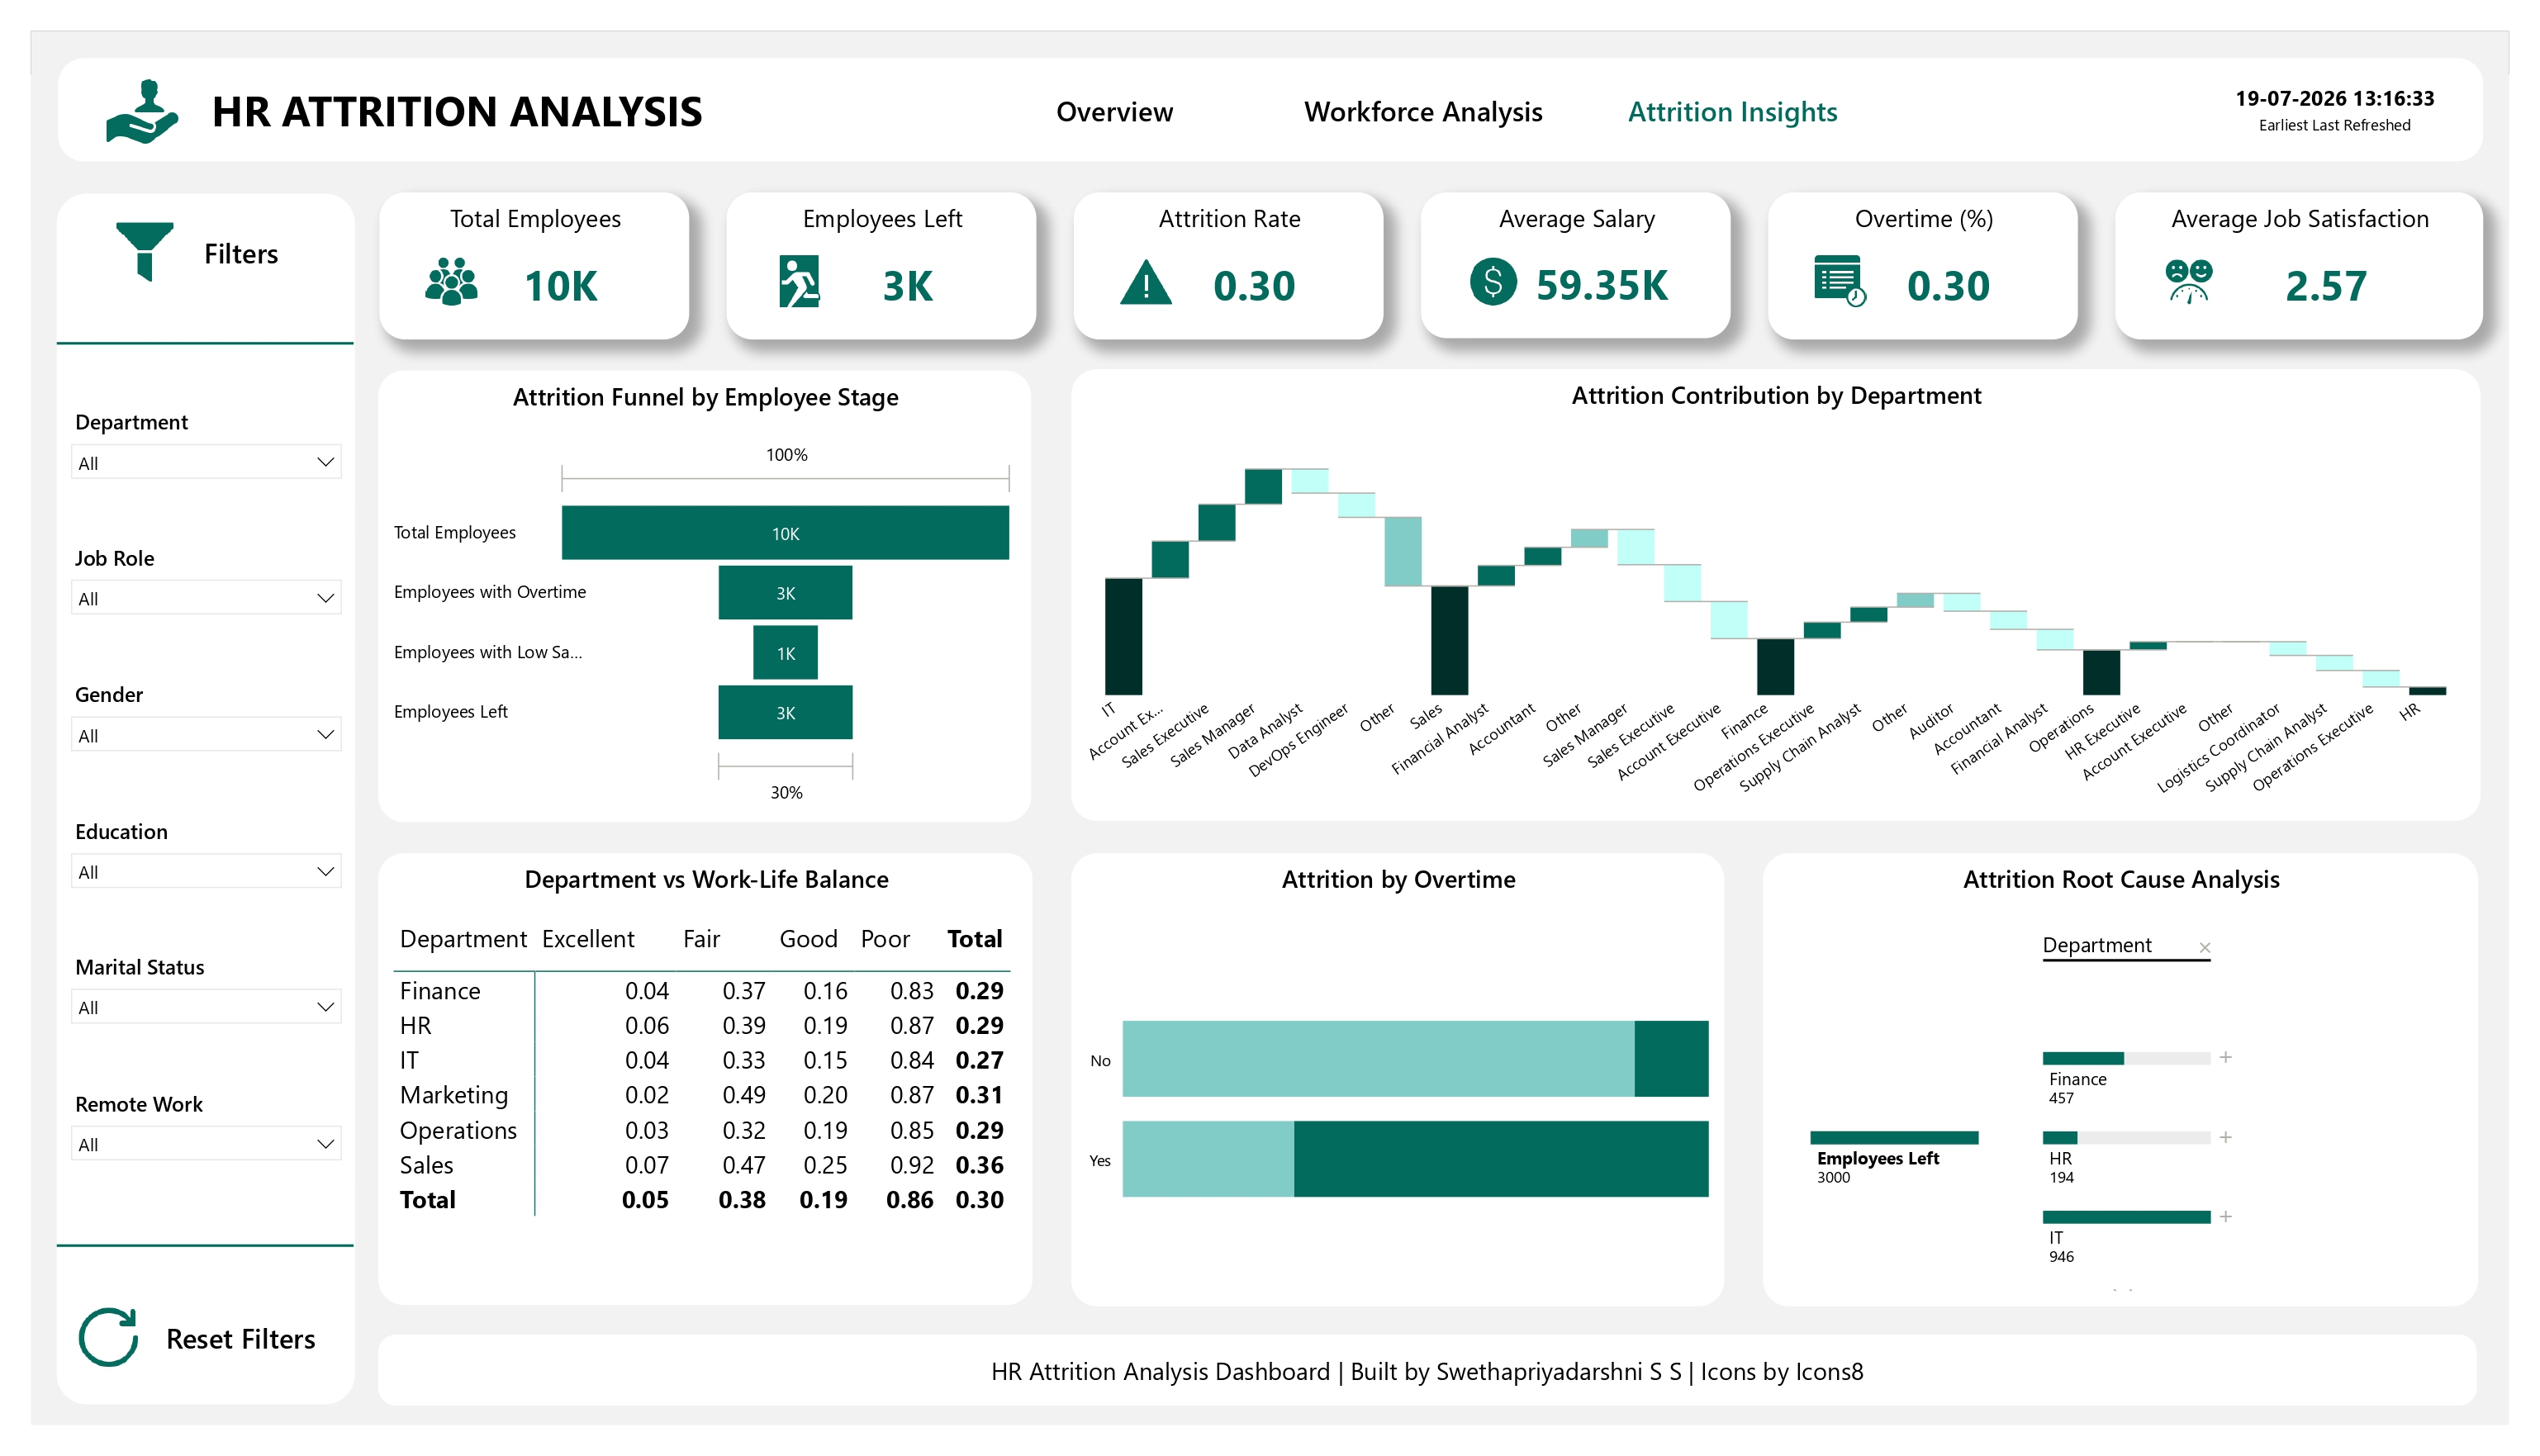

Layout of this report page (visuals, bound fields, positions):
{"tool":"powerbi","page":{"name":"Attrition Insights","canvas":[1920,1080],"ordinal":2},"visuals":[{"type":"group","id":"g1","title":"Header","box":[20.7,20.7,1879.3,80.1],"z":0},{"type":"shape","title":"Title Shape","box":[20.7,20.8,1879.3,80],"z":0,"group":"g1"},{"type":"cardVisual","title":"Total Employees","fields":{"Data":["Sheet1.Total Employees"]},"box":[269.8,125,240,113.5],"z":0,"group":"g5"},{"type":"shape","title":"Filter Shape","box":[20,126,231.5,938],"z":0,"group":"g3"},{"type":"image","title":"Filter Icon","box":[63.4,146,50.3,50],"z":0,"group":"g2"},{"type":"slicer","title":"Department Slicer","fields":{"Values":["Sheet1.Department"]},"box":[20.9,287.2,230,80],"z":0,"group":"g4"},{"type":"image","title":"Reset Icon","box":[35.4,987.1,50.3,50],"z":0,"group":"g6"},{"type":"image","title":"Title Icon","box":[45.6,31.8,80,60],"z":1000,"group":"g1"},{"type":"cardVisual","title":"Employees Left","fields":{"Data":["Sheet1.Employees Left"]},"box":[538.8,125,240,113.5],"z":1000,"group":"g5"},{"type":"group","id":"g2","title":"Filters","box":[63.4,146,145.1,50.2],"z":1000,"group":"g3"},{"type":"actionButton","title":"Filters Button","box":[118,146.2,90.5,50],"z":1000,"group":"g2"},{"type":"slicer","title":"Job Role Slicer","fields":{"Values":["Sheet1.Job_Role"]},"box":[21,392.7,230,80],"z":1000,"group":"g4"},{"type":"actionButton","title":"Reset Button","box":[89.7,987.1,146.8,50],"z":1000,"group":"g6"},{"type":"textbox","title":"Title","box":[135,33.9,410.7,60],"z":2000,"group":"g1"},{"type":"cardVisual","title":"Attrition Rate","fields":{"Data":["Sheet1.Attrition Rate"]},"box":[807.8,125,240,113.5],"z":2000,"group":"g5"},{"type":"group","id":"g3","title":"Left Panel","box":[20,126,231.5,938],"z":2000},{"type":"shape","title":"Filter Line","box":[20.1,221.7,230,40],"z":2000,"group":"g3"},{"type":"slicer","title":"Gender Slicer","fields":{"Values":["Sheet1.Gender"]},"box":[21,498.4,230,80],"z":2000,"group":"g4"},{"type":"actionButton","title":"Overview Button","box":[719.6,20.7,240,80],"z":3000,"group":"g1"},{"type":"cardVisual","title":"Average Salary","fields":{"Data":["Sheet1.Average Salary"]},"box":[1076.8,125.2,240,113.1],"z":3000,"group":"g5"},{"type":"group","id":"g4","title":"Slicers","box":[20.9,287.2,230.1,607.7],"z":3000,"group":"g3"},{"type":"slicer","title":"Education Slicer","fields":{"Values":["Sheet1.Education_Level"]},"box":[21,603.9,230,80],"z":3000,"group":"g4"},{"type":"actionButton","title":"Workforce Analysis Button","box":[959,20.7,240,80],"z":4000,"group":"g1"},{"type":"group","id":"g5","title":"Cards","box":[269.8,125,1629.9,113.6],"z":4000},{"type":"cardVisual","title":"Overtime (%)","fields":{"Data":["Sheet1.Overtime %"]},"box":[1345.7,125,240,113.6],"z":4000,"group":"g5"},{"type":"slicer","title":"Marital Status Slicer","fields":{"Values":["Sheet1.Marital_Status"]},"box":[21,709.4,230,80],"z":4000,"group":"g4"},{"type":"shape","title":"Reset Line","box":[20.1,920.6,230,40.9],"z":4000,"group":"g3"},{"type":"funnel","title":"Attrition Funnel by Employee Stage","fields":{"Y":["Sheet1.Total Employees","Sheet1.Employees with Overtime","Sheet1.Employees with Low Satisfaction","Sheet1.Employees Left"]},"box":[269,262.5,505.8,350.4],"z":4250,"group":"g7"},{"type":"waterfallChart","title":"Attrition Contribution by Department","fields":{"Y":["Sheet1.Employees Left"],"Category":["Sheet1.Department"],"Breakdown":["Sheet1.Job_Role"]},"box":[805.8,261.9,1092.5,350.4],"z":4500,"group":"g7"},{"type":"actionButton","title":"Attrition Insights Button","box":[1198.3,20.7,240,80],"z":5000,"group":"g1"},{"type":"cardVisual","title":"Average Job Satisfaction","fields":{"Data":["Sheet1.Average Job Satisfaction"]},"box":[1614.7,125,285,113.6],"z":5000,"group":"g5"},{"type":"pivotTable","title":"Department vs Work-Life Balance","fields":{"Rows":["Sheet1.Department"],"Columns":["Sheet1.Work_Life_Balance"],"Values":["Sheet1.Attrition Rate"]},"box":[269,636.9,507.2,350.4],"z":5000,"group":"g7"},{"type":"slicer","title":"Remote Work Slicer","fields":{"Values":["Sheet1.Remote_Work"]},"box":[21,814.9,230,80],"z":5000,"group":"g4"},{"type":"group","id":"g6","title":"Reset","box":[35.4,987.1,201.1,50],"z":5000,"group":"g3"},{"type":"cardVisual","title":"Last Refreshed","fields":{"Data":["Min(Last Refreshed.Last Refreshed)"]},"box":[1674.5,24.5,221.4,70],"z":6000,"group":"g1"},{"type":"group","id":"g7","title":"Charts","box":[269,261.9,1629.3,725.9],"z":6000},{"type":"hundredPercentStackedBarChart","title":"Attrition by Overtime","fields":{"Category":["Sheet1.Overtime"],"Series":["Sheet1.Attrition"],"Y":["CountNonNull(Sheet1.Employee_ID)"]},"box":[805.8,637.3,506.3,350.4],"z":6000,"group":"g7"},{"type":"decompositionTreeVisual","title":"Attrition Root Cause Analysis","fields":{"Analyze":["Sheet1.Employees Left"],"ExplainBy":["Sheet1.Department","Sheet1.Overtime","Sheet1.Work_Life_Balance","Sheet1.Job_Satisfaction","Sheet1.Gender","Sheet1.Education_Level","Sheet1.Remote_Work","Sheet1.Marital_Status","Sheet1.Age Group","Sheet1.Promotion_Last_3_Years","Sheet1.Years_at_Company","Sheet1.Job_Role"]},"box":[1342.1,637.3,553.7,350.4],"z":7000,"group":"g7"},{"type":"shape","title":"Footer","box":[269,1010.3,1625.9,55],"z":8000}]}

Visuals, with their boxes on the page's 1920x1080 design canvas (x1, y1, x2, y2). These are canvas units, not pixel positions in the 2540x1456 screenshot, which may show the page scaled, cropped or inside an application window:
"Header" group: {"x1": 21, "y1": 21, "x2": 1900, "y2": 101}
"Title Shape" shape: {"x1": 21, "y1": 21, "x2": 1900, "y2": 101}
"Total Employees" cardVisual: {"x1": 270, "y1": 125, "x2": 510, "y2": 238}
"Filter Shape" shape: {"x1": 20, "y1": 126, "x2": 252, "y2": 1064}
"Filter Icon" image: {"x1": 63, "y1": 146, "x2": 114, "y2": 196}
"Department Slicer" slicer: {"x1": 21, "y1": 287, "x2": 251, "y2": 367}
"Reset Icon" image: {"x1": 35, "y1": 987, "x2": 86, "y2": 1037}
"Title Icon" image: {"x1": 46, "y1": 32, "x2": 126, "y2": 92}
"Employees Left" cardVisual: {"x1": 539, "y1": 125, "x2": 779, "y2": 238}
"Filters" group: {"x1": 63, "y1": 146, "x2": 208, "y2": 196}
"Filters Button" actionButton: {"x1": 118, "y1": 146, "x2": 208, "y2": 196}
"Job Role Slicer" slicer: {"x1": 21, "y1": 393, "x2": 251, "y2": 473}
"Reset Button" actionButton: {"x1": 90, "y1": 987, "x2": 236, "y2": 1037}
"Title" textbox: {"x1": 135, "y1": 34, "x2": 546, "y2": 94}
"Attrition Rate" cardVisual: {"x1": 808, "y1": 125, "x2": 1048, "y2": 238}
"Left Panel" group: {"x1": 20, "y1": 126, "x2": 252, "y2": 1064}
"Filter Line" shape: {"x1": 20, "y1": 222, "x2": 250, "y2": 262}
"Gender Slicer" slicer: {"x1": 21, "y1": 498, "x2": 251, "y2": 578}
"Overview Button" actionButton: {"x1": 720, "y1": 21, "x2": 960, "y2": 101}
"Average Salary" cardVisual: {"x1": 1077, "y1": 125, "x2": 1317, "y2": 238}
"Slicers" group: {"x1": 21, "y1": 287, "x2": 251, "y2": 895}
"Education Slicer" slicer: {"x1": 21, "y1": 604, "x2": 251, "y2": 684}
"Workforce Analysis Button" actionButton: {"x1": 959, "y1": 21, "x2": 1199, "y2": 101}
"Cards" group: {"x1": 270, "y1": 125, "x2": 1900, "y2": 239}
"Overtime (%)" cardVisual: {"x1": 1346, "y1": 125, "x2": 1586, "y2": 239}
"Marital Status Slicer" slicer: {"x1": 21, "y1": 709, "x2": 251, "y2": 789}
"Reset Line" shape: {"x1": 20, "y1": 921, "x2": 250, "y2": 962}
"Attrition Funnel by Employee Stage" funnel: {"x1": 269, "y1": 262, "x2": 775, "y2": 613}
"Attrition Contribution by Department" waterfallChart: {"x1": 806, "y1": 262, "x2": 1898, "y2": 612}
"Attrition Insights Button" actionButton: {"x1": 1198, "y1": 21, "x2": 1438, "y2": 101}
"Average Job Satisfaction" cardVisual: {"x1": 1615, "y1": 125, "x2": 1900, "y2": 239}
"Department vs Work-Life Balance" pivotTable: {"x1": 269, "y1": 637, "x2": 776, "y2": 987}
"Remote Work Slicer" slicer: {"x1": 21, "y1": 815, "x2": 251, "y2": 895}
"Reset" group: {"x1": 35, "y1": 987, "x2": 236, "y2": 1037}
"Last Refreshed" cardVisual: {"x1": 1674, "y1": 24, "x2": 1896, "y2": 94}
"Charts" group: {"x1": 269, "y1": 262, "x2": 1898, "y2": 988}
"Attrition by Overtime" hundredPercentStackedBarChart: {"x1": 806, "y1": 637, "x2": 1312, "y2": 988}
"Attrition Root Cause Analysis" decompositionTreeVisual: {"x1": 1342, "y1": 637, "x2": 1896, "y2": 988}
"Footer" shape: {"x1": 269, "y1": 1010, "x2": 1895, "y2": 1065}
